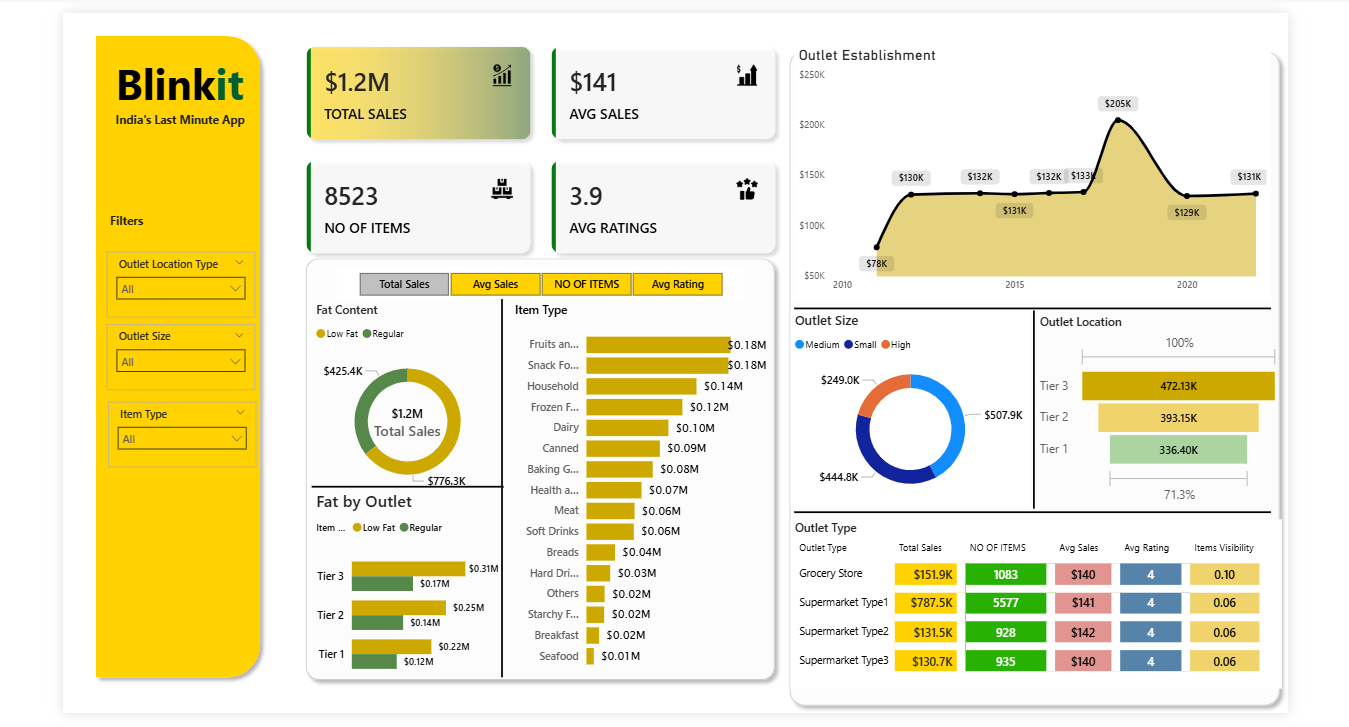

Layout of this report page (visuals, bound fields, positions):
{"tool":"powerbi","page":{"name":"Page 1","canvas":[1400,800],"ordinal":0},"visuals":[{"type":"shape","box":[28.6,17.7,205.9,751.2],"z":0},{"type":"textbox","box":[33,43.5,201.1,94.6],"z":1000},{"type":"textbox","box":[51,106.6,169.6,31.5],"z":2000},{"type":"cardVisual","fields":{"Data":["BlinkIT Grocery Data.Total Sales","BlinkIT Grocery Data.Avg Sales","BlinkIT Grocery Data.NO OF ITEMS","BlinkIT Grocery Data.Avg Rating"]},"box":[261.2,21,570.3,270.2],"z":3000},{"type":"shape","box":[268.7,271.7,553.8,499.8],"z":4000},{"type":"donutChart","title":"Fat Content","fields":{"Y":["BlinkIT Grocery Data.Total Sales"],"Category":["BlinkIT Grocery Data.Item Fat Content"]},"box":[283.6,329.9,219.5,229],"z":5000},{"type":"slicer","fields":{"Values":["Metrics.Metrics"]},"box":[312.2,290.4,464.9,39.5],"z":6000},{"type":"cardVisual","fields":{"Data":["BlinkIT Grocery Data.Total Sales"]},"box":[331.3,430.8,124.1,60],"z":7000},{"type":"clusteredBarChart","title":"Fat by Outlet ","fields":{"Y":["BlinkIT Grocery Data.Total Sales"],"Category":["BlinkIT Grocery Data.Outlet Location Type"],"Series":["BlinkIT Grocery Data.Item Fat Content"]},"box":[283.7,544.8,219.1,229.6],"z":8000},{"type":"shape","box":[283.6,526.2,219.5,31.4],"z":9000},{"type":"shape","box":[493.5,327.2,17.7,432.2],"z":10000},{"type":"barChart","title":"Item Type","fields":{"Y":["BlinkIT Grocery Data.Total Sales"],"Category":["BlinkIT Grocery Data.Item Type"]},"box":[511.3,329.9,297.2,429.5],"z":11000},{"type":"shape","box":[822.1,34.1,578.1,766.2],"z":12000},{"type":"lineChart","title":"Outlet Establishment","fields":{"Y":["BlinkIT Grocery Data.Total Sales"],"Category":["BlinkIT Grocery Data.Outlet Establishment Year"]},"box":[836,37.5,544.8,291.2],"z":13000},{"type":"shape","box":[836,327.2,544.8,21],"z":14000},{"type":"donutChart","title":"Outlet Size","fields":{"Y":["BlinkIT Grocery Data.Total Sales"],"Category":["BlinkIT Grocery Data.Outlet Size"]},"box":[831.5,340.7,274.7,223.6],"z":15000},{"type":"shape","box":[1103.1,340.7,13.5,226.6],"z":16000},{"type":"funnel","title":"Outlet Location","fields":{"Y":["Sum(BlinkIT Grocery Data.Sales)"],"Category":["BlinkIT Grocery Data.Outlet Location Type"]},"box":[1112.1,342.2,283.7,222.1],"z":17000},{"type":"shape","box":[836,559.8,544.8,21],"z":18000},{"type":"pivotTable","title":"Outlet Type","fields":{"Rows":["BlinkIT Grocery Data.Outlet Type"],"Values":["BlinkIT Grocery Data.Total Sales","BlinkIT Grocery Data.NO OF ITEMS","BlinkIT Grocery Data.Avg Sales","BlinkIT Grocery Data.Avg Rating","Avg(BlinkIT Grocery Data.Item Visibility)"]},"box":[831.6,578.1,561.7,193.6],"z":19000},{"type":"slicer","fields":{"Values":["BlinkIT Grocery Data.Outlet Location Type"]},"box":[49.5,273.2,169.6,75],"z":20000},{"type":"slicer","fields":{"Values":["BlinkIT Grocery Data.Outlet Size"]},"box":[49.5,355.7,169.6,75],"z":21000},{"type":"slicer","fields":{"Values":["BlinkIT Grocery Data.Item Type"]},"box":[51,444.3,169.6,75],"z":22000},{"type":"textbox","box":[49.1,222.2,83.2,38.2],"z":24000}]}

Visuals, with their boxes on the page's 1400x800 design canvas (x1, y1, x2, y2). These are canvas units, not pixel positions in the 1349x727 screenshot, which may show the page scaled, cropped or inside an application window:
shape: (left=29, top=18, right=234, bottom=769)
textbox: (left=33, top=44, right=234, bottom=138)
textbox: (left=51, top=107, right=221, bottom=138)
cardVisual - BlinkIT Grocery Data.Total Sales x BlinkIT Grocery Data.Avg Sales: (left=261, top=21, right=832, bottom=291)
shape: (left=269, top=272, right=822, bottom=772)
"Fat Content" donutChart: (left=284, top=330, right=503, bottom=559)
slicer - Metrics.Metrics: (left=312, top=290, right=777, bottom=330)
cardVisual - BlinkIT Grocery Data.Total Sales: (left=331, top=431, right=455, bottom=491)
"Fat by Outlet " clusteredBarChart: (left=284, top=545, right=503, bottom=774)
shape: (left=284, top=526, right=503, bottom=558)
shape: (left=494, top=327, right=511, bottom=759)
"Item Type" barChart: (left=511, top=330, right=808, bottom=759)
shape: (left=822, top=34, right=1400, bottom=800)
"Outlet Establishment" lineChart: (left=836, top=38, right=1381, bottom=329)
shape: (left=836, top=327, right=1381, bottom=348)
"Outlet Size" donutChart: (left=832, top=341, right=1106, bottom=564)
shape: (left=1103, top=341, right=1117, bottom=567)
"Outlet Location" funnel: (left=1112, top=342, right=1396, bottom=564)
shape: (left=836, top=560, right=1381, bottom=581)
"Outlet Type" pivotTable: (left=832, top=578, right=1393, bottom=772)
slicer - BlinkIT Grocery Data.Outlet Location Type: (left=50, top=273, right=219, bottom=348)
slicer - BlinkIT Grocery Data.Outlet Size: (left=50, top=356, right=219, bottom=431)
slicer - BlinkIT Grocery Data.Item Type: (left=51, top=444, right=221, bottom=519)
textbox: (left=49, top=222, right=132, bottom=260)
